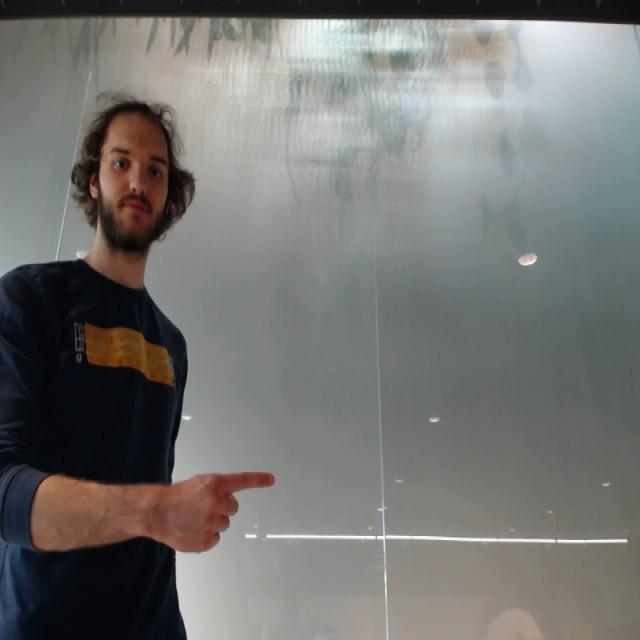right: (153, 466, 281, 560)
